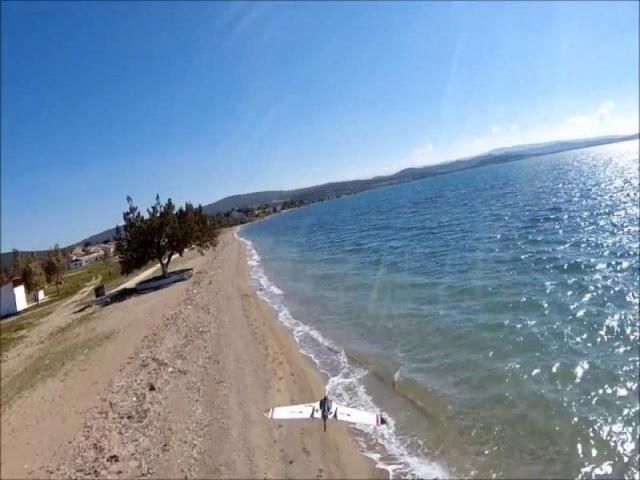hedef: (259, 386, 389, 445)
